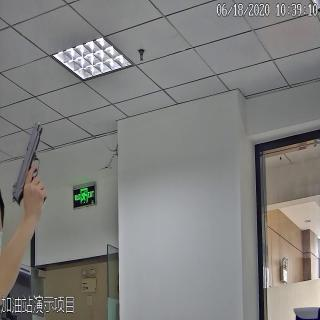gun: (10, 119, 48, 216)
